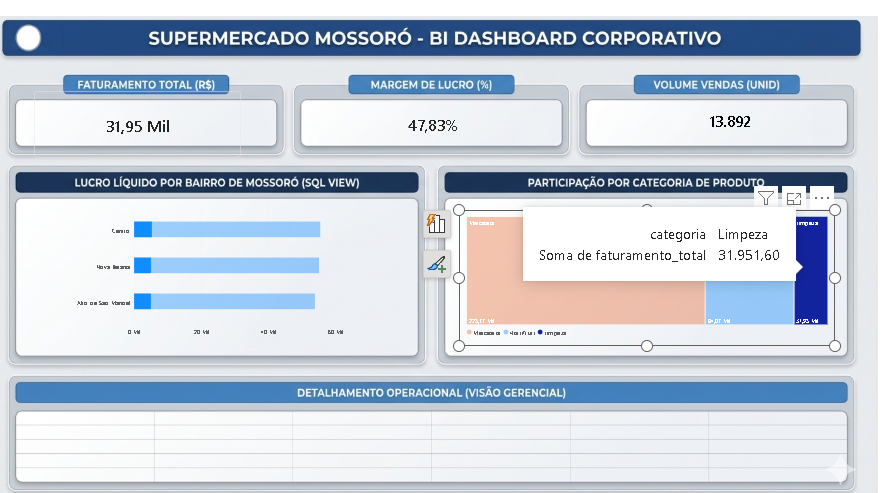

Layout of this report page (visuals, bound fields, positions):
{"tool":"powerbi","page":{"name":"Página 1","canvas":[1920,1080],"ordinal":0},"visuals":[{"type":"cardVisual","fields":{"Data":["Sum(vw_dashboard_vendas.faturamento_total)"]},"box":[101.5,183.6,447.1,144.7],"z":0},{"type":"cardVisual","fields":{"Data":["vw_dashboard_vendas.Margem Lucro %"]},"box":[693.5,158,540.1,195.8],"z":1},{"type":"cardVisual","fields":{"Data":["vw_dashboard_vendas.Total Unidades Vendidas"]},"box":[1292.6,184,627.4,127.4],"z":2},{"type":"clusteredBarChart","fields":{"Category":["vw_dashboard_vendas.bairro"],"Y":["Sum(vw_dashboard_vendas.lucro_liquido)"]},"box":[160.8,412.5,627.9,321.5],"z":4},{"type":"treemap","fields":{"Group":["vw_dashboard_vendas.categoria"],"Values":["Sum(vw_dashboard_vendas.faturamento_total)"]},"box":[1019.1,439.8,812.9,294.2],"z":5}]}

Visuals, with their boxes in screenshot pixels (x1, y1, x2, y2), scaled from the page's 1920x1080 canvas onto the 894x493 screenshot:
cardVisual - Sum(vw_dashboard_vendas.faturamento_total): Rect(47, 84, 255, 150)
cardVisual - vw_dashboard_vendas.Margem Lucro %: Rect(323, 72, 574, 162)
cardVisual - vw_dashboard_vendas.Total Unidades Vendidas: Rect(602, 84, 893, 142)
clusteredBarChart - vw_dashboard_vendas.bairro x Sum(vw_dashboard_vendas.lucro_liquido): Rect(75, 188, 367, 335)
treemap - vw_dashboard_vendas.categoria x Sum(vw_dashboard_vendas.faturamento_total): Rect(475, 201, 853, 335)
